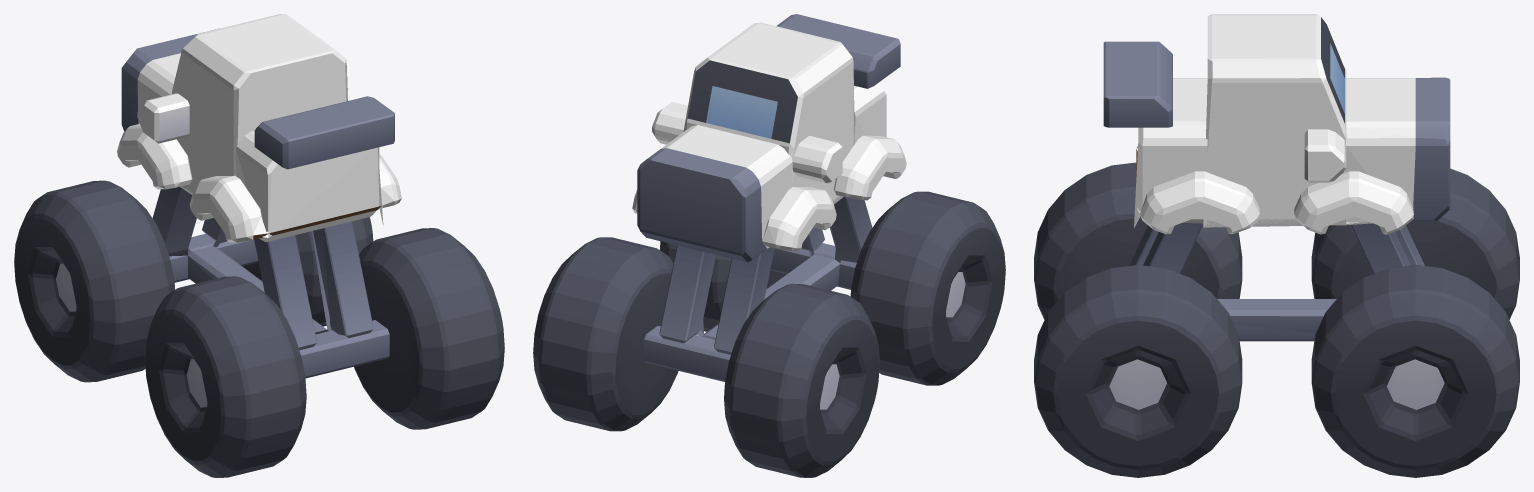
The model's file is KitMonsterTruck.fbx.
3 views of the same model, side by side, from view 1: azimuth 30°, elevation 25°; view 2: azimuth 150°, elevation 25°; view 3: azimuth 270°, elevation 25° (orthographic). The views are drawn at different scales.
Parts seen in each view (by area): view 1: KitMonsterTruck_Body, Wheel_RL, Wheel_FL, Wheel_RR, Wheel_FR; view 2: KitMonsterTruck_Body, Wheel_FL, Wheel_RL, Wheel_FR, Wheel_RR; view 3: KitMonsterTruck_Body, Wheel_FR, Wheel_RR, Wheel_RL, Wheel_FL.
Part boxes in pixels (bbox=[...]): KitMonsterTruck_Body: bbox=[117, 14, 401, 378]; Wheel_RL: bbox=[145, 276, 306, 477]; Wheel_FL: bbox=[14, 180, 175, 382]; Wheel_RR: bbox=[354, 228, 504, 429]; Wheel_FR: bbox=[243, 217, 373, 326]; KitMonsterTruck_Body: bbox=[632, 14, 906, 381]; Wheel_FL: bbox=[724, 283, 879, 477]; Wheel_RL: bbox=[850, 191, 1005, 385]; Wheel_FR: bbox=[533, 237, 678, 431]; Wheel_RR: bbox=[660, 241, 786, 331]; KitMonsterTruck_Body: bbox=[1103, 14, 1450, 341]; Wheel_FR: bbox=[1311, 265, 1519, 477]; Wheel_RR: bbox=[1034, 265, 1242, 477]; Wheel_RL: bbox=[1034, 162, 1242, 319]; Wheel_FL: bbox=[1311, 168, 1519, 319].
Bounding box in the file's own units: 2.14 × 2.57 × 3.
